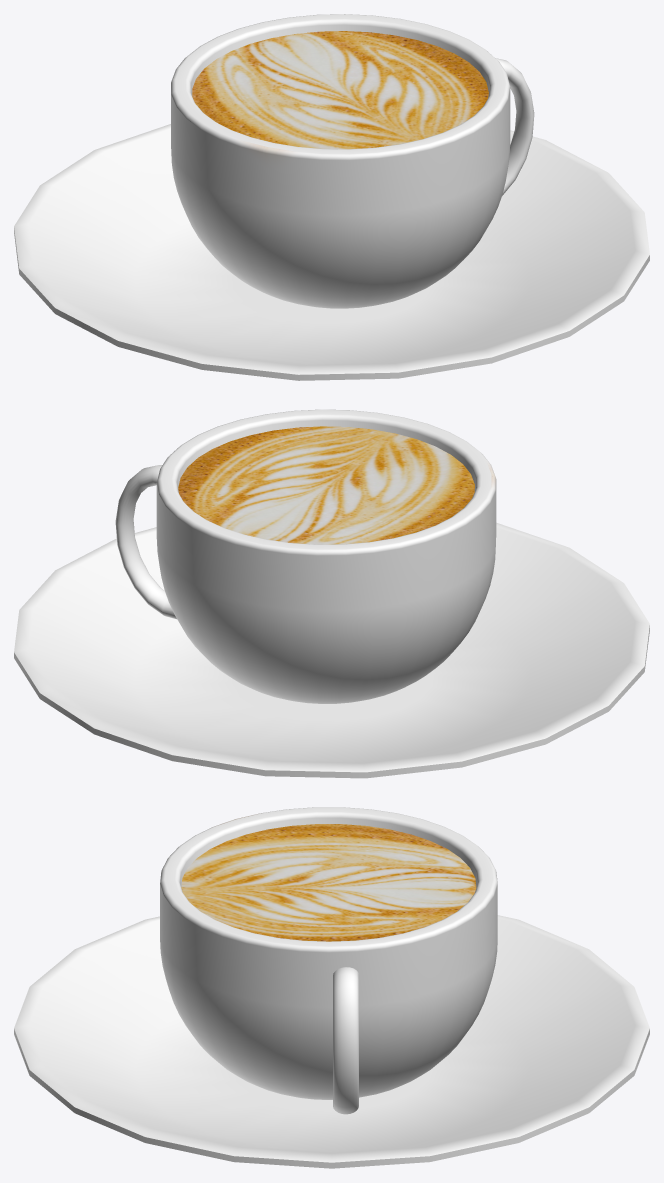
The model's file is Coffe.fbx.
3 renders of one model, top to bottom at view 1: azimuth 30°, elevation 25°; view 2: azimuth 150°, elevation 25°; view 3: azimuth 270°, elevation 25°, orthographic.
Visible parts, largest first — view 1: polySurface8; view 2: polySurface8; view 3: polySurface8.
Boxes of the visible parts, x1=… form: polySurface8: x1=14, y1=14, x2=649, y2=380; polySurface8: x1=14, y1=409, x2=649, y2=778; polySurface8: x1=14, y1=807, x2=649, y2=1168.
Size of the model in its own units: 379 by 136 by 379.
